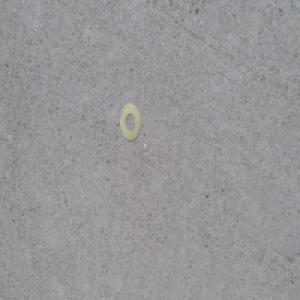Washer: (121, 103, 142, 143)
